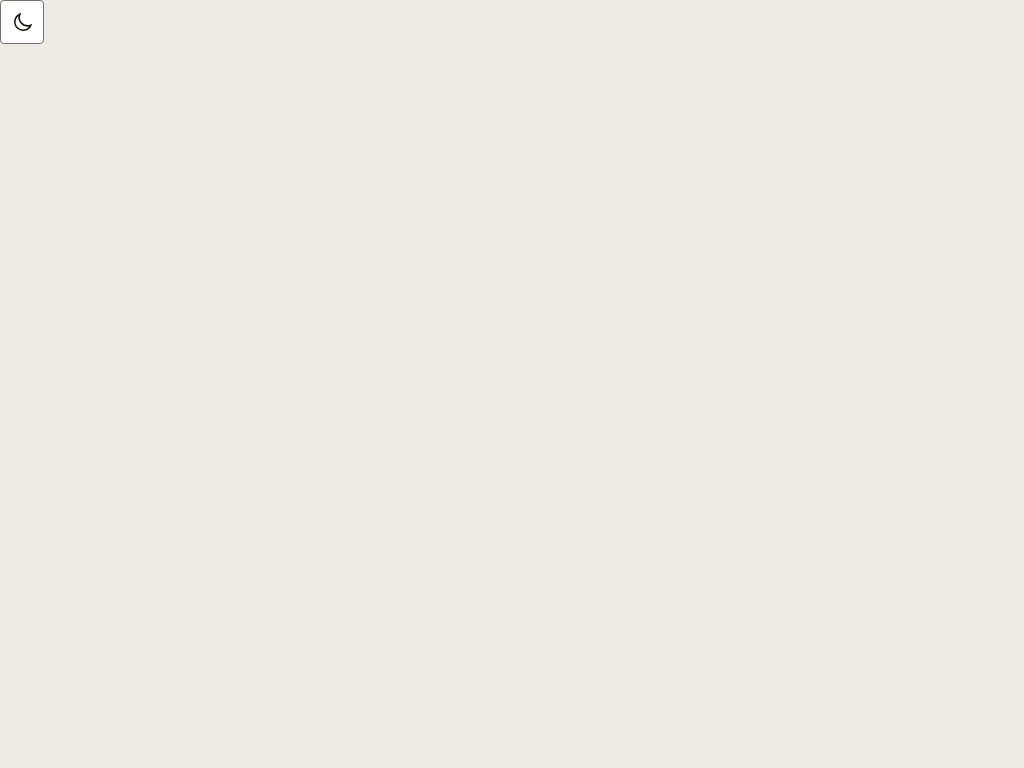
Test case: the toggle switches the theme, relabels itself and saves the choice
Click the button named "Switch to the dark theme" at (22, 22), box [0,0,44,44]
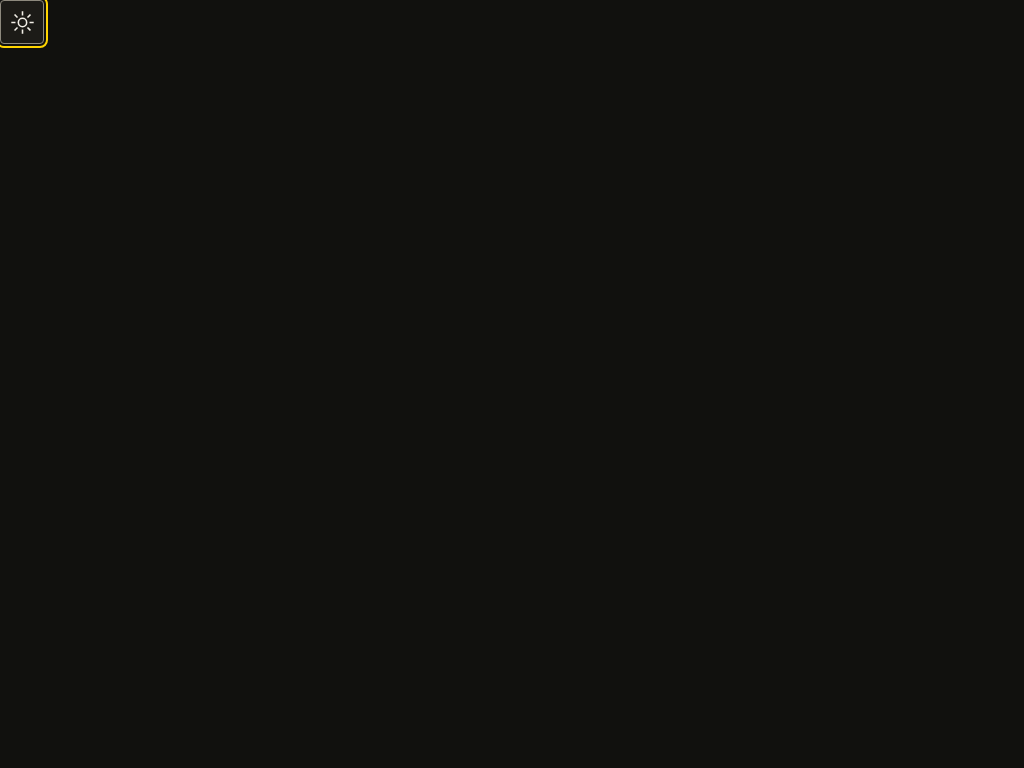
Check: the button named "Switch to the light theme" is shown, box [0,0,44,44]
